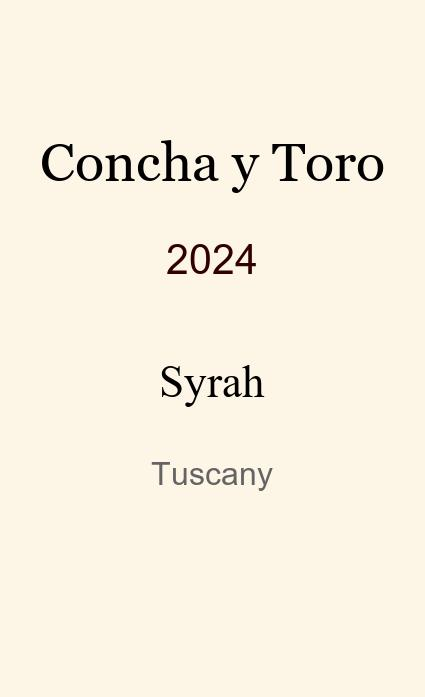brand: (40, 131, 385, 184)
region: (151, 456, 273, 485)
variety: (159, 356, 265, 398)
vintage: (166, 236, 258, 266)
